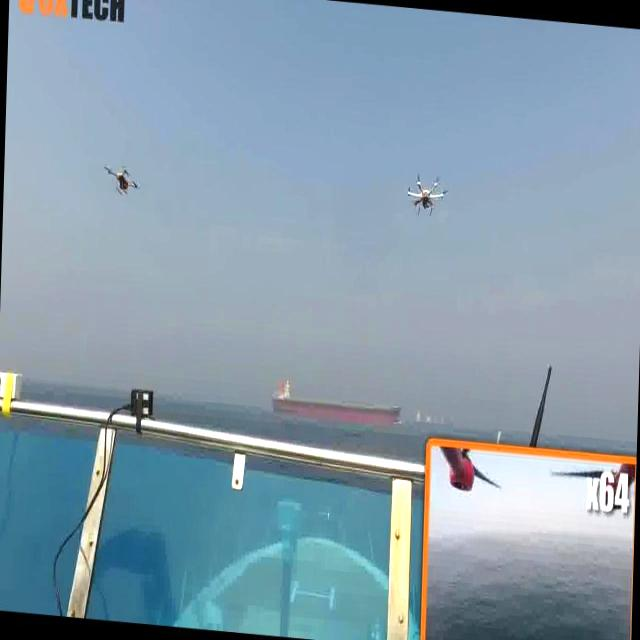drone: (399, 170, 450, 223), (97, 157, 140, 202)
